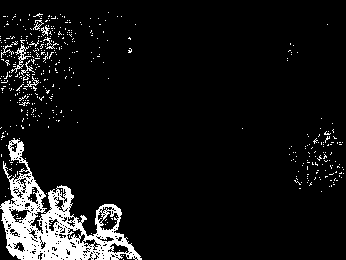person: (1, 176, 43, 260)
